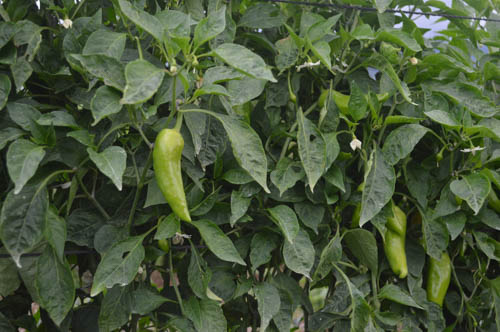ChiliPepper: (148, 129, 193, 224), (380, 210, 412, 279), (423, 253, 453, 310), (318, 90, 355, 116)
